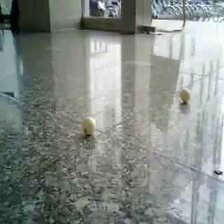w: (80, 117, 95, 135), (179, 88, 192, 103)
